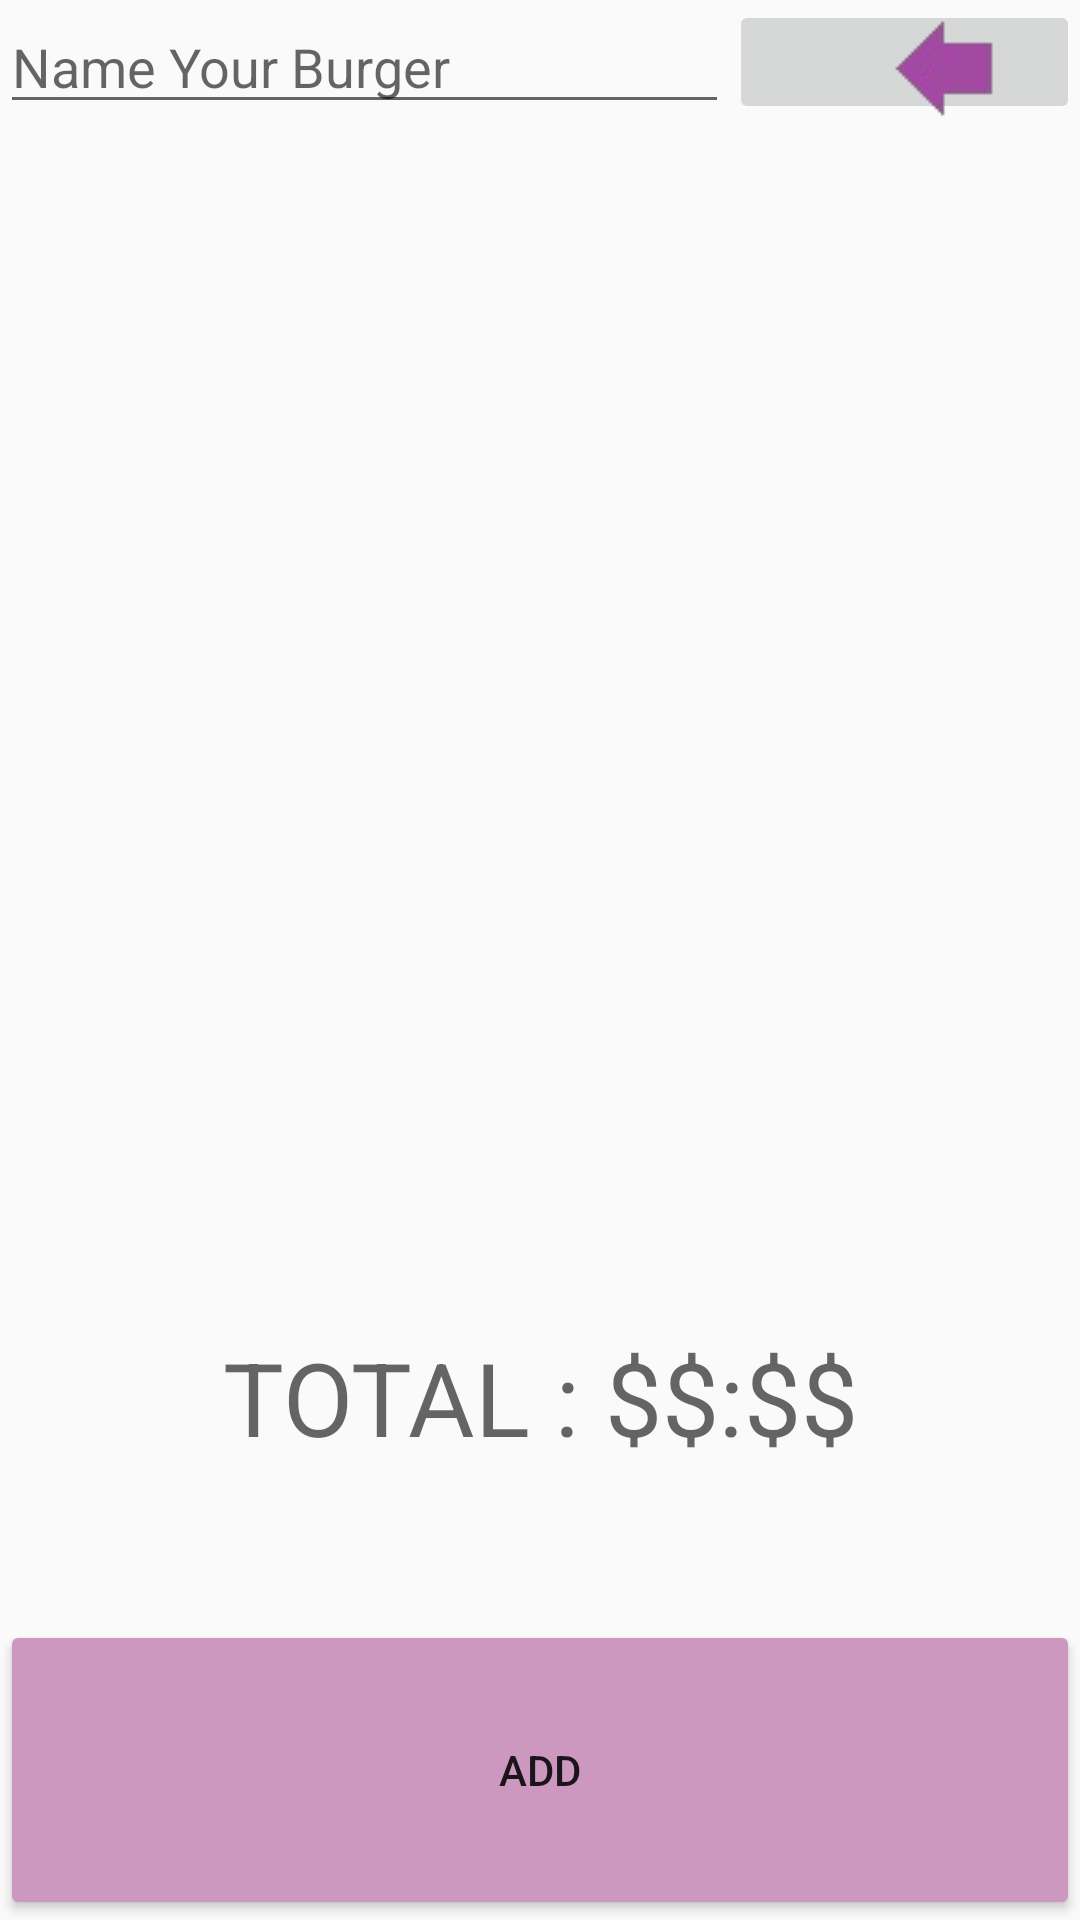

Screen size 1080px x 1920px. Icon name, then its box in pixels as region(x1, y1, x2, y2):
back: region(741, 18, 1068, 116)
